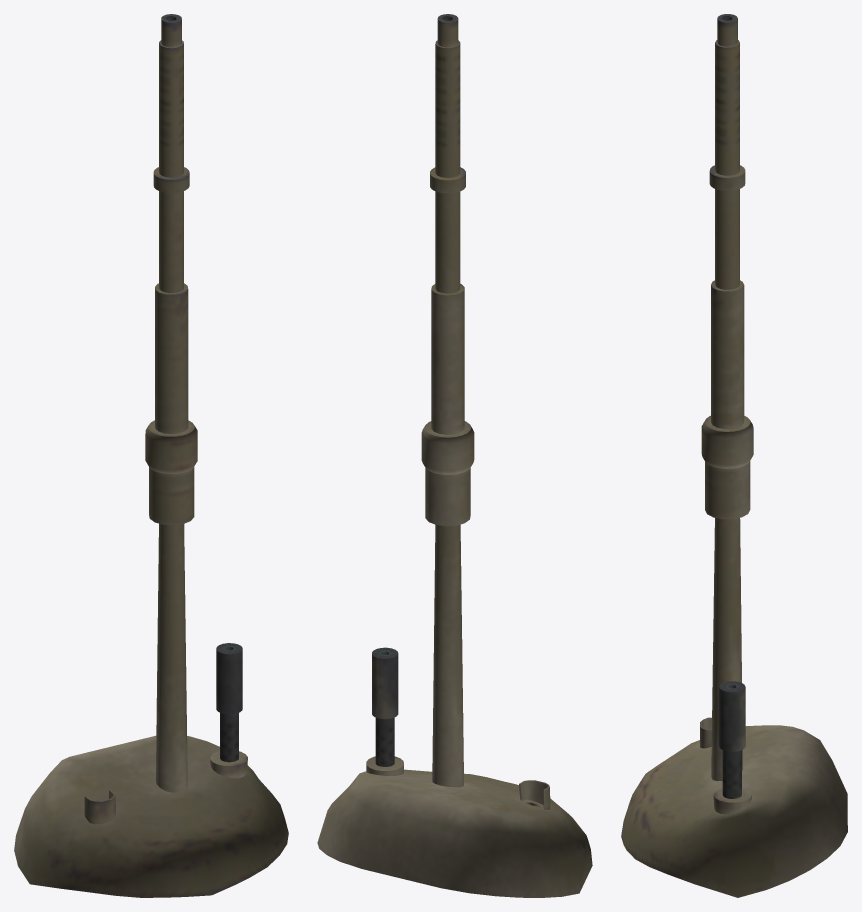
File: Gun_04.glb
3 views of the same model, side by side, from view 1: azimuth 30°, elevation 25°; view 2: azimuth 150°, elevation 25°; view 3: azimuth 270°, elevation 25° (orthographic).
Visible parts, largest first — view 1: set_0_group_0; view 2: set_0_group_0; view 3: set_0_group_0.
Boxes of the visible parts, x1=… form: set_0_group_0: x1=14, y1=14, x2=288, y2=897; set_0_group_0: x1=317, y1=14, x2=592, y2=897; set_0_group_0: x1=621, y1=14, x2=847, y2=897.
Bounding box in the file's own units: 0.5694 × 1.86 × 0.4599.
Materials: 1 (1 with a texture image).
